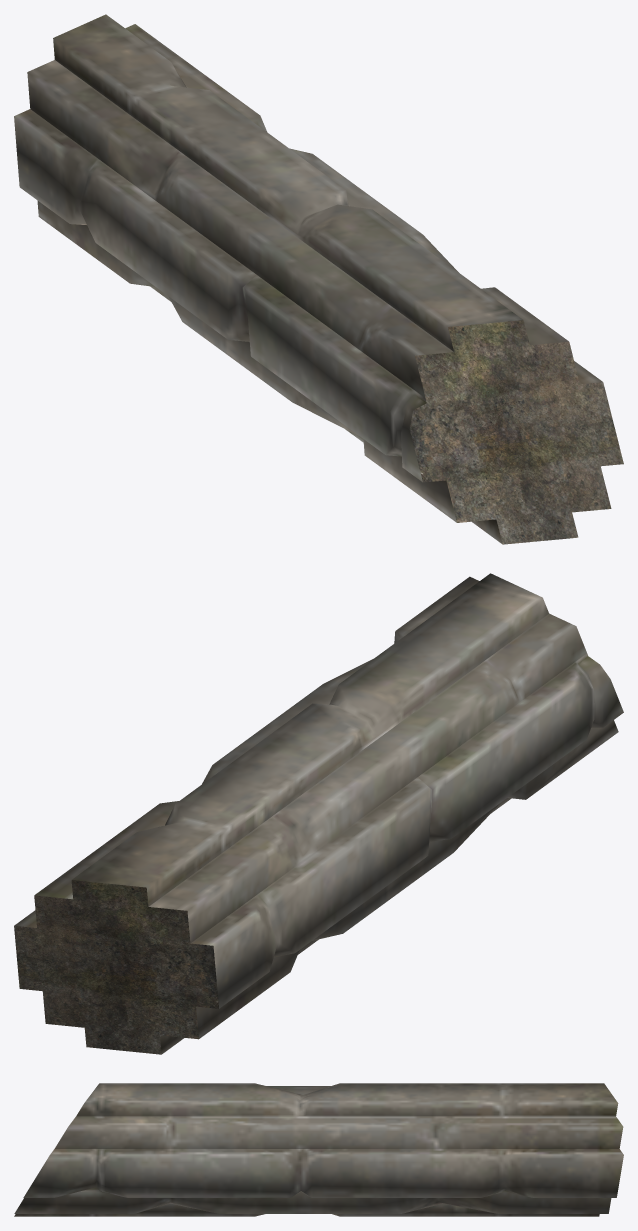
Rendered from RailingDamage05_1.fbx.
The picture shows the model from 3 angles, top to bottom: view 1: azimuth 30°, elevation 25°; view 2: azimuth 150°, elevation 25°; view 3: azimuth 270°, elevation 25°; orthographic projection. The views are drawn at different scales.
Parts seen in each view (by area): view 1: RailingDamage05_2; view 2: RailingDamage05_2; view 3: RailingDamage05_2.
Part boxes in pixels (x1,y1,x2,y2): RailingDamage05_2: (14,14,623,544); RailingDamage05_2: (14,573,623,1054); RailingDamage05_2: (14,1083,623,1216).
Bounding box in the file's own units: 11.45 × 11.45 × 55.8.
